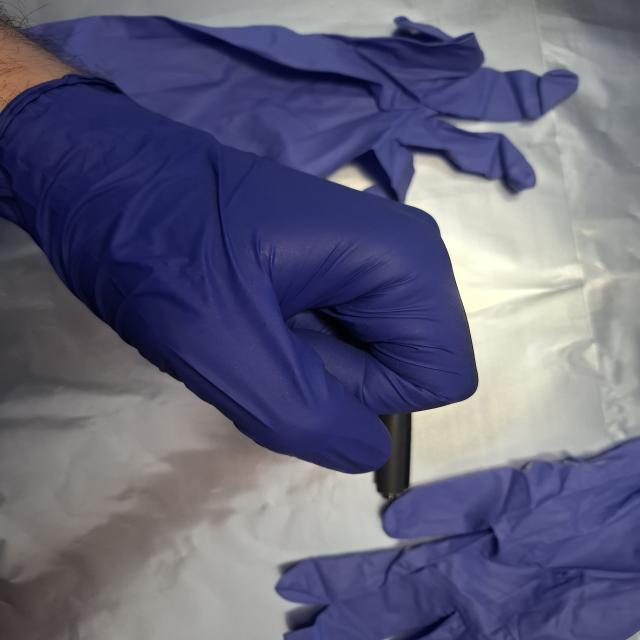glove_on: (0, 70, 484, 476)
